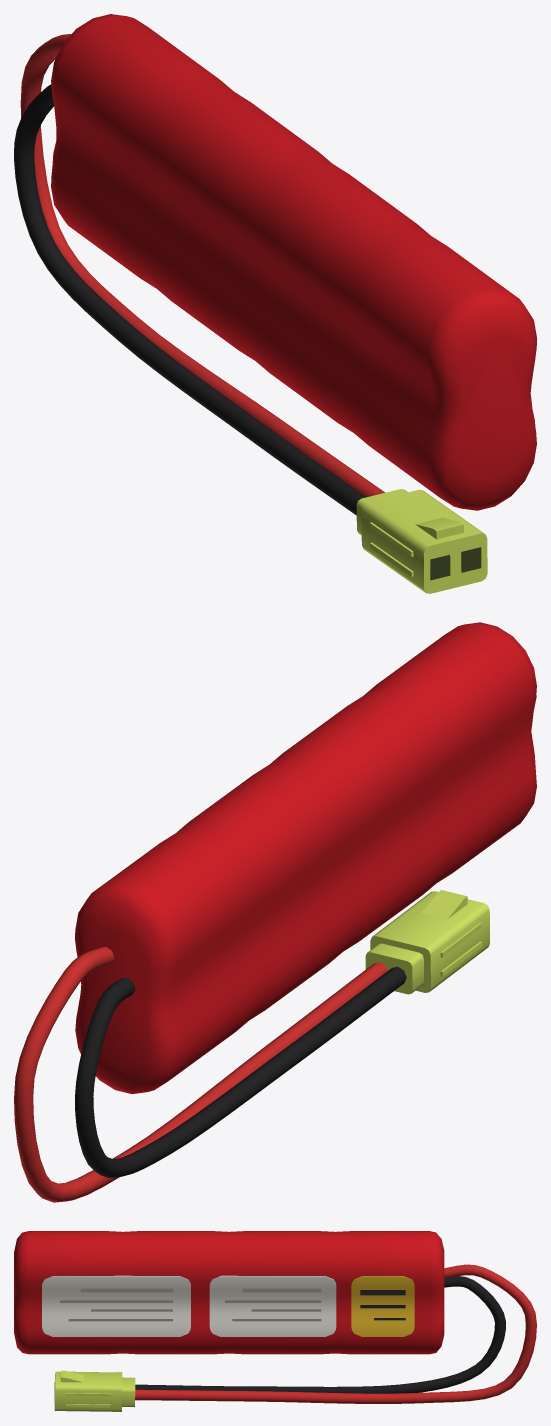
Rendered from standardBattery.glb.
3 renders of one model, top to bottom at view 1: azimuth 30°, elevation 25°; view 2: azimuth 150°, elevation 25°; view 3: azimuth 270°, elevation 25°, orthographic. The views are drawn at different scales.
Visible parts, largest first — view 1: Battery; view 2: Battery; view 3: Battery.
Boxes of the visible parts, box(x1,y1,x2,y2) form: Battery: box(14, 14, 536, 593); Battery: box(14, 622, 536, 1202); Battery: box(14, 1231, 536, 1411).
Bounding box in the file's own units: 0.0176 × 0.0505 × 0.1403.
